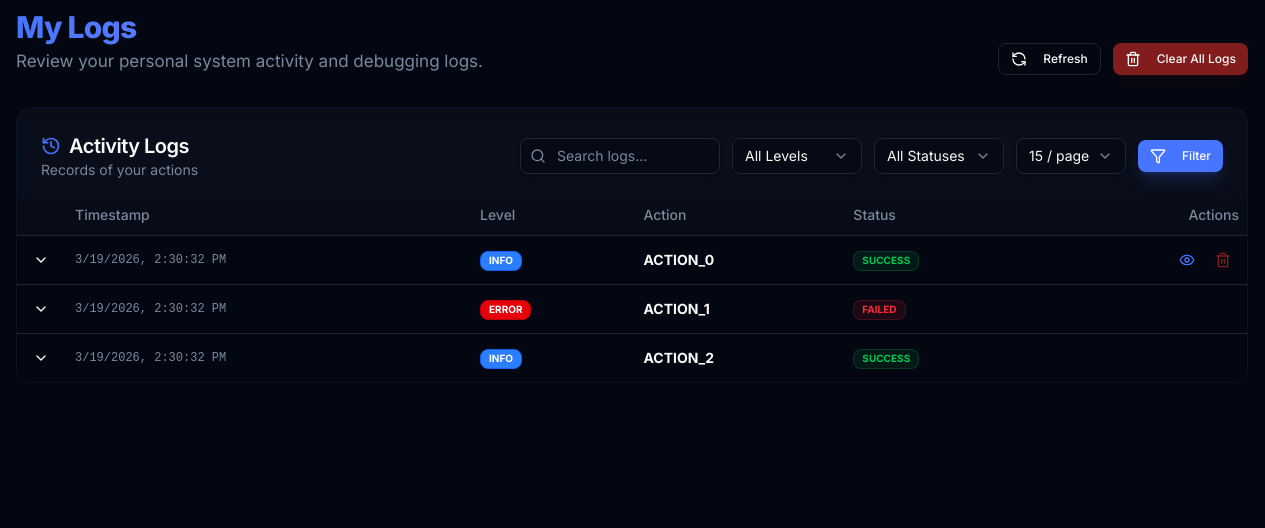
MyLogsPage › collapses row on second click
The width and height of the screenshot is (1265, 528).
Expected: the text "ACTION_0" is shown, left=635, top=236, right=845, bottom=284
Step 1. Click the text "ACTION_0" → point(632, 260), box left=17, top=236, right=1247, bottom=284
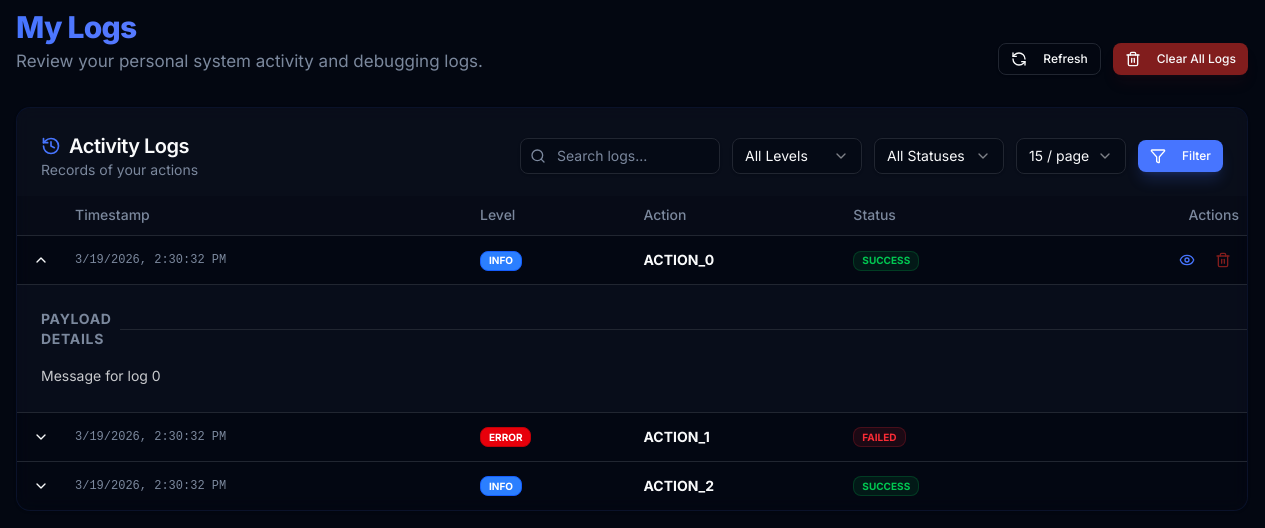
Expected: the text "Message for log 0" is shown, left=41, top=367, right=161, bottom=384
Step 2. Click the text "ACTION_0" → point(632, 260), box left=17, top=236, right=1247, bottom=284
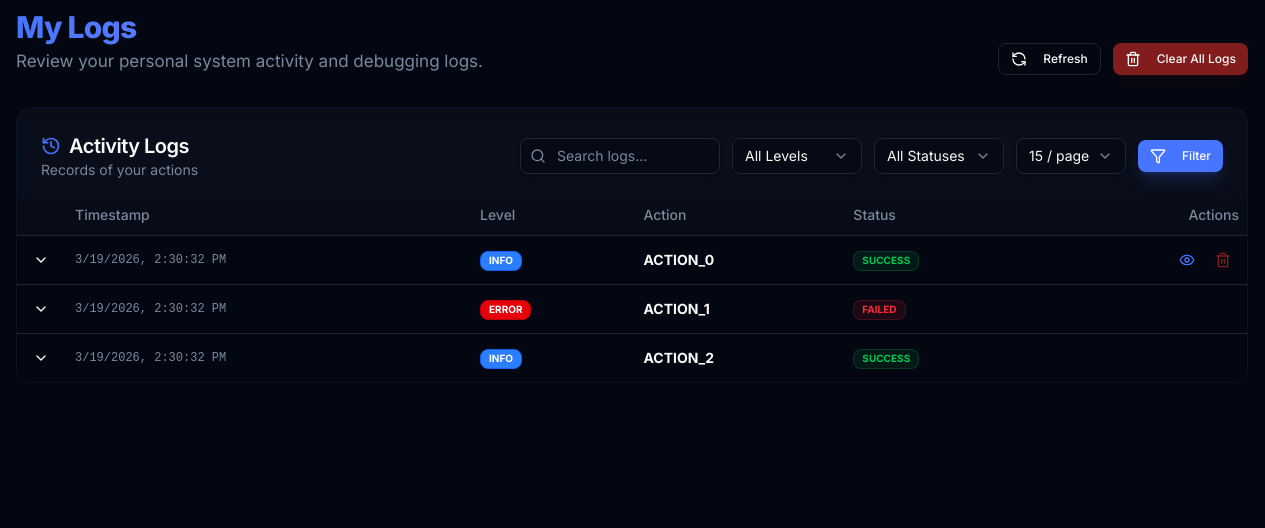
Expected: the text "Message for log 0" is gone
